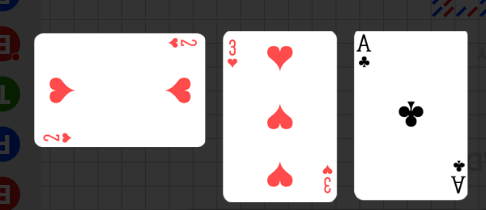2H: (42, 130, 74, 144), (166, 37, 198, 50)
AC: (449, 157, 466, 195)
